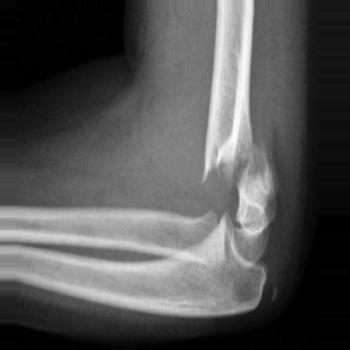Fracture: (193, 155, 247, 230)
